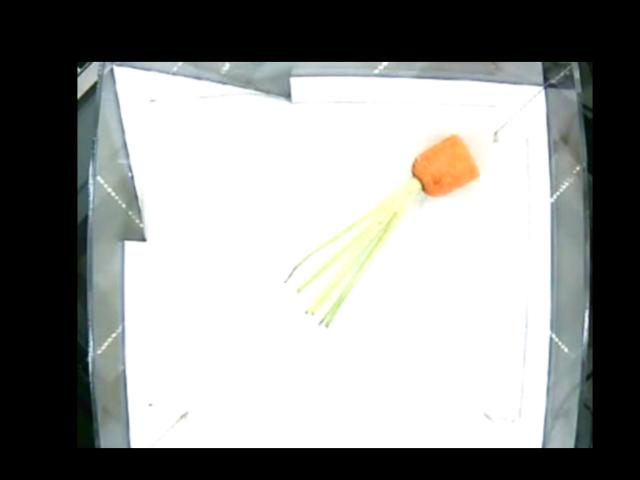Carrot: (369, 132, 480, 228)
